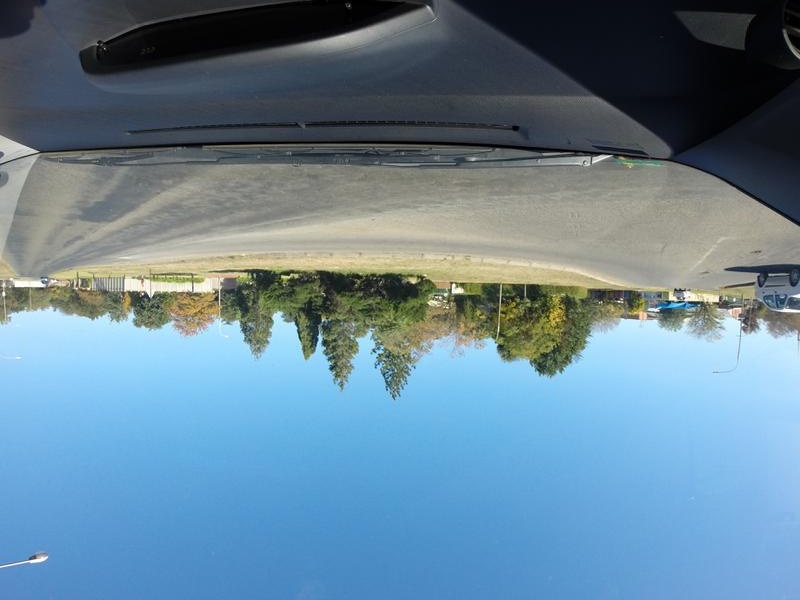pothole: (745, 241, 766, 258), (699, 261, 717, 280)
